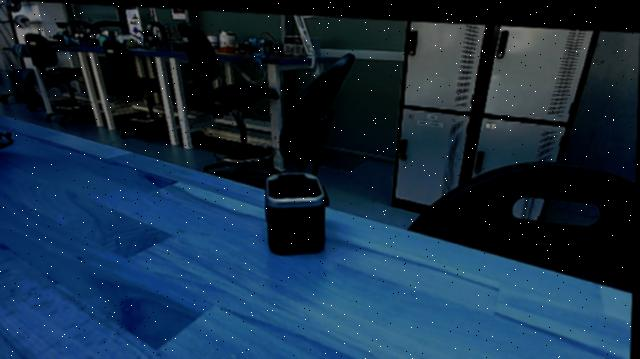adapter: (259, 162, 338, 259)
